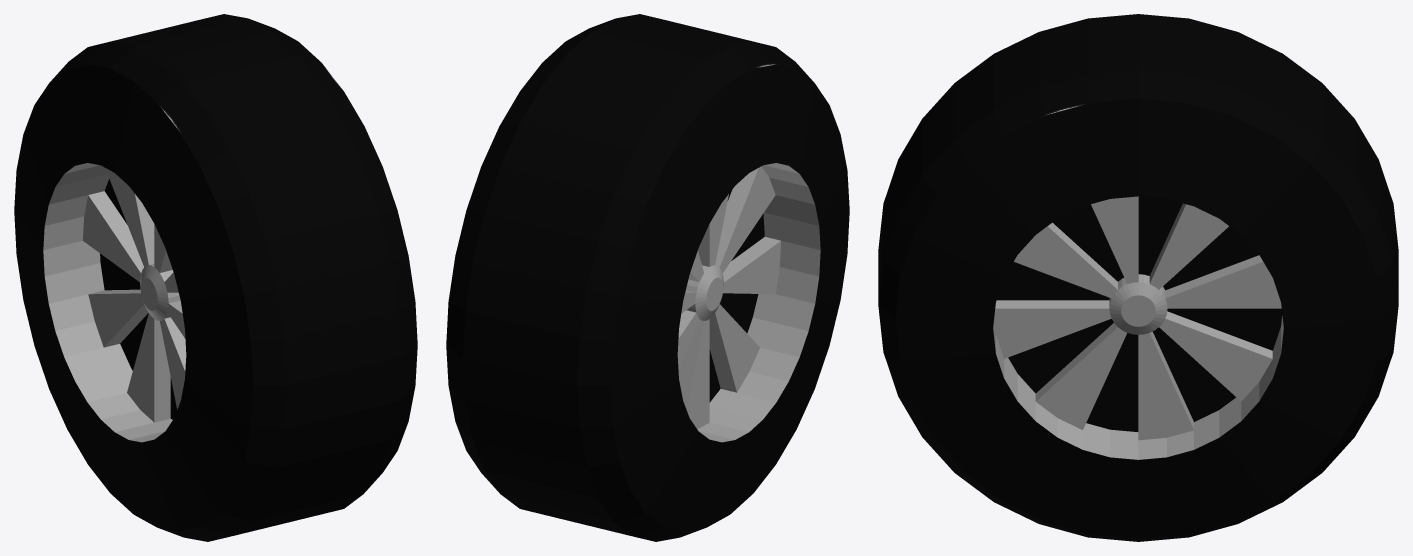
Rendered from wheel.glb.
3 renders of one model, left to right at view 1: azimuth 30°, elevation 25°; view 2: azimuth 150°, elevation 25°; view 3: azimuth 270°, elevation 25°, orthographic.
Parts seen in each view (by area): view 1: Cylinder; view 2: Cylinder; view 3: Cylinder.
Part boxes in pixels (left/top/right/bottom): Cylinder: left=14, top=14, right=417, bottom=541; Cylinder: left=446, top=14, right=849, bottom=541; Cylinder: left=878, top=14, right=1398, bottom=541.
Bounding box in the file's own units: 0.9132 × 2 × 2.
1 material, 1 textured.
